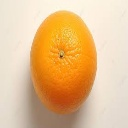orange: (28, 7, 99, 116)
